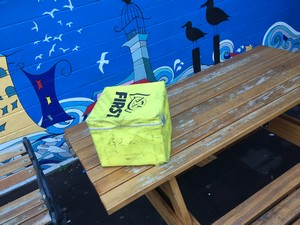cube: (88, 88, 172, 164)
